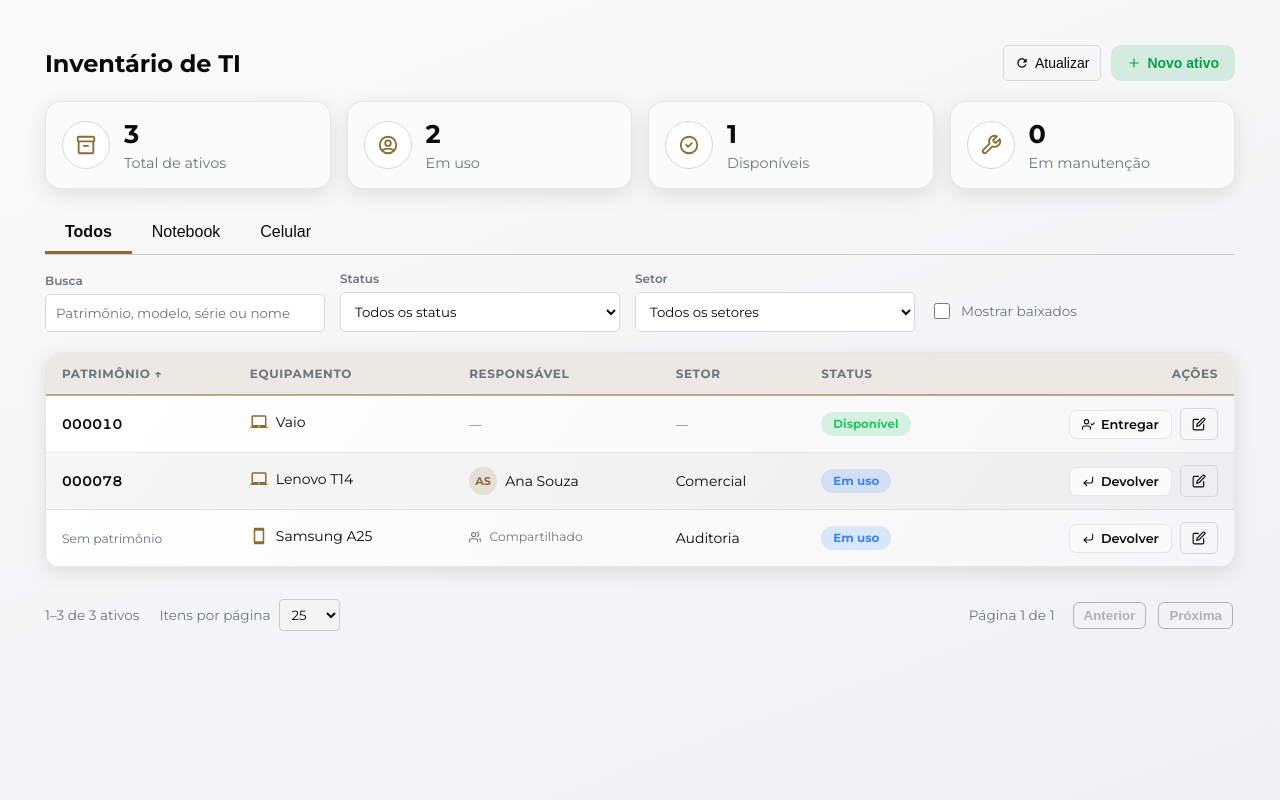
Test case: Inventário de TI › sugestão de patrimônio no cadastro › já vem preenchido com o próximo da sequência
Check: the number of rows with class "inv-row" is 3, box [46, 395, 1234, 452]; [46, 452, 1234, 510]; [46, 510, 1234, 566]
Click the button "Novo ativo" at (1173, 63), box [1111, 45, 1235, 81]
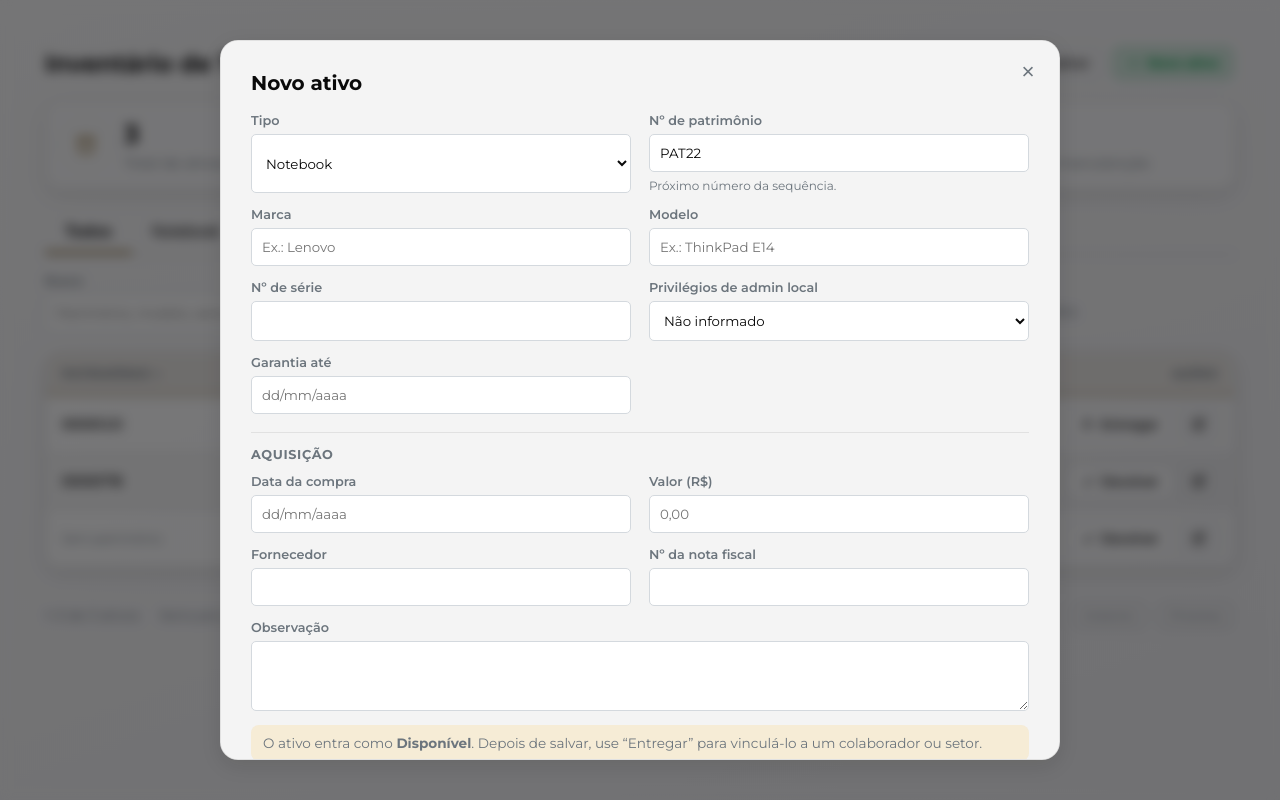
Check: the field labelled "Nº de patrimônio" holds "PAT22", box [649, 134, 1029, 172]
Check: the text "Próximo número da sequência." is shown, box [649, 178, 836, 193]
